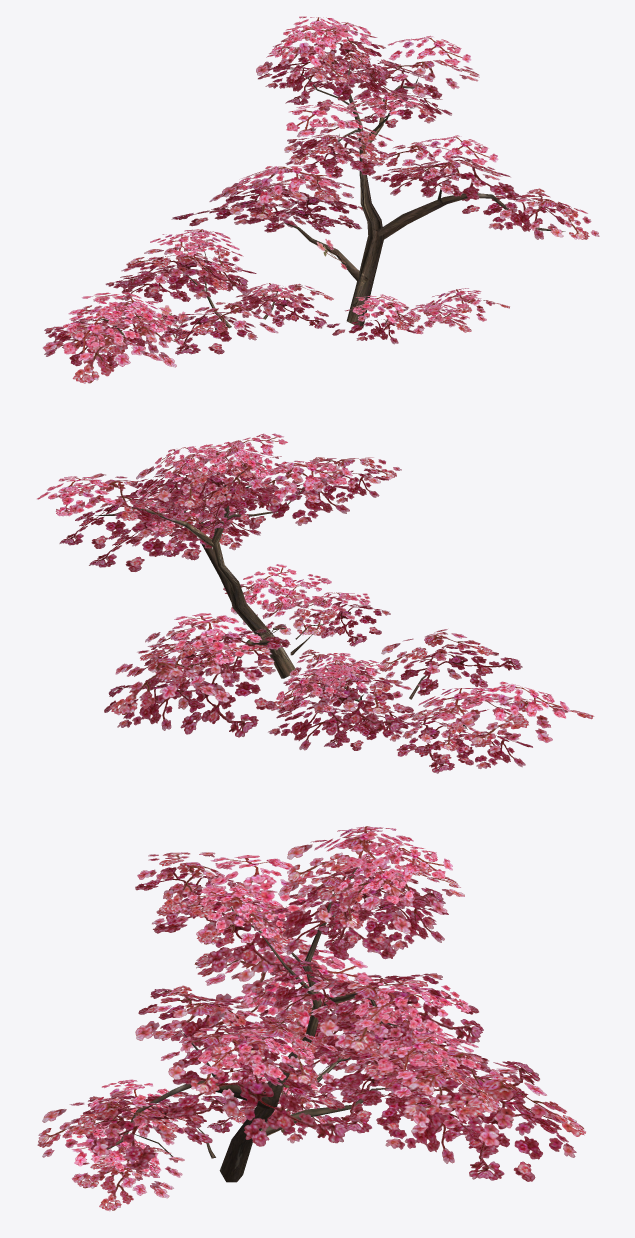
File: S_Tree_Red002_H7.FBX
3 views of the same model, one above another, from view 1: azimuth 30°, elevation 25°; view 2: azimuth 150°, elevation 25°; view 3: azimuth 270°, elevation 25° (orthographic). The views are drawn at different scales.
Parts seen in each view (by area): view 1: S_Tree_Red002_H7_2, S_Tree_Red002_H7_1; view 2: S_Tree_Red002_H7_2, S_Tree_Red002_H7_1; view 3: S_Tree_Red002_H7_2, S_Tree_Red002_H7_1.
Boxes of the visible parts, x1,y1,x2,y2 form: S_Tree_Red002_H7_2: (42, 16, 599, 383); S_Tree_Red002_H7_1: (98, 58, 565, 335); S_Tree_Red002_H7_2: (37, 433, 594, 773); S_Tree_Red002_H7_1: (95, 460, 467, 733); S_Tree_Red002_H7_2: (37, 826, 585, 1211); S_Tree_Red002_H7_1: (96, 867, 399, 1182).
Bounding box in the file's own units: 856 × 429 × 646.
2 materials, 2 textured.
